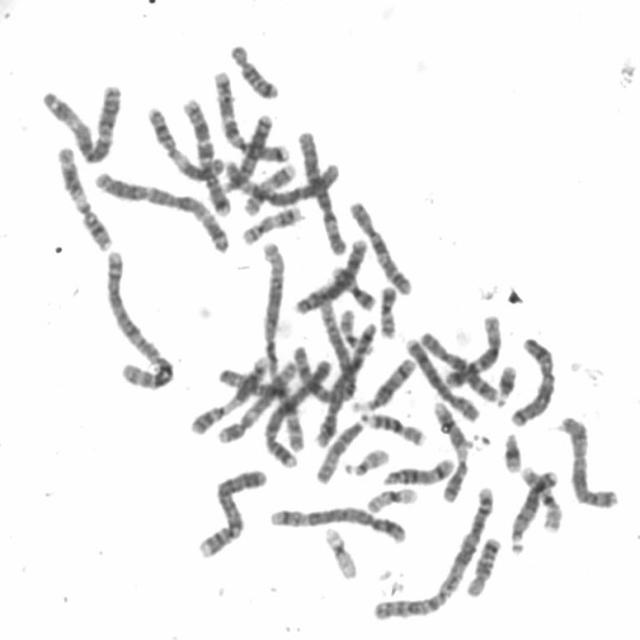A1: (257, 231, 305, 459), (290, 282, 358, 404)
A2: (370, 480, 498, 623), (100, 242, 178, 392)
A3: (89, 163, 233, 255), (37, 75, 126, 166)
B4: (258, 349, 335, 469), (194, 462, 270, 561)
B5: (310, 311, 380, 450), (264, 499, 410, 545)
C10: (344, 194, 416, 296), (418, 328, 502, 404)
C11: (52, 138, 116, 253), (143, 99, 229, 181)
C12: (214, 359, 302, 449), (439, 307, 506, 391)
C6: (293, 124, 350, 256), (228, 152, 343, 212)
C7: (208, 64, 292, 164), (176, 90, 234, 218)
C8: (402, 335, 482, 425), (294, 235, 370, 319)
C9: (187, 349, 270, 436), (428, 395, 473, 504)
D13: (211, 112, 276, 200), (507, 462, 562, 556)
D14: (347, 349, 420, 414), (378, 451, 458, 487)
D15: (312, 411, 369, 486), (215, 362, 294, 401)
E16: (517, 460, 565, 533), (358, 406, 429, 447)
E17: (240, 156, 300, 218), (237, 198, 307, 246)
E18: (226, 36, 283, 100), (462, 530, 505, 599)
F19: (320, 520, 361, 581), (362, 480, 422, 515)
F20: (326, 261, 378, 312), (374, 278, 401, 340)
G21: (492, 357, 520, 407), (499, 426, 525, 474)
G22: (339, 441, 393, 479), (335, 301, 370, 353)
X: (556, 410, 622, 510), (506, 329, 560, 428)
